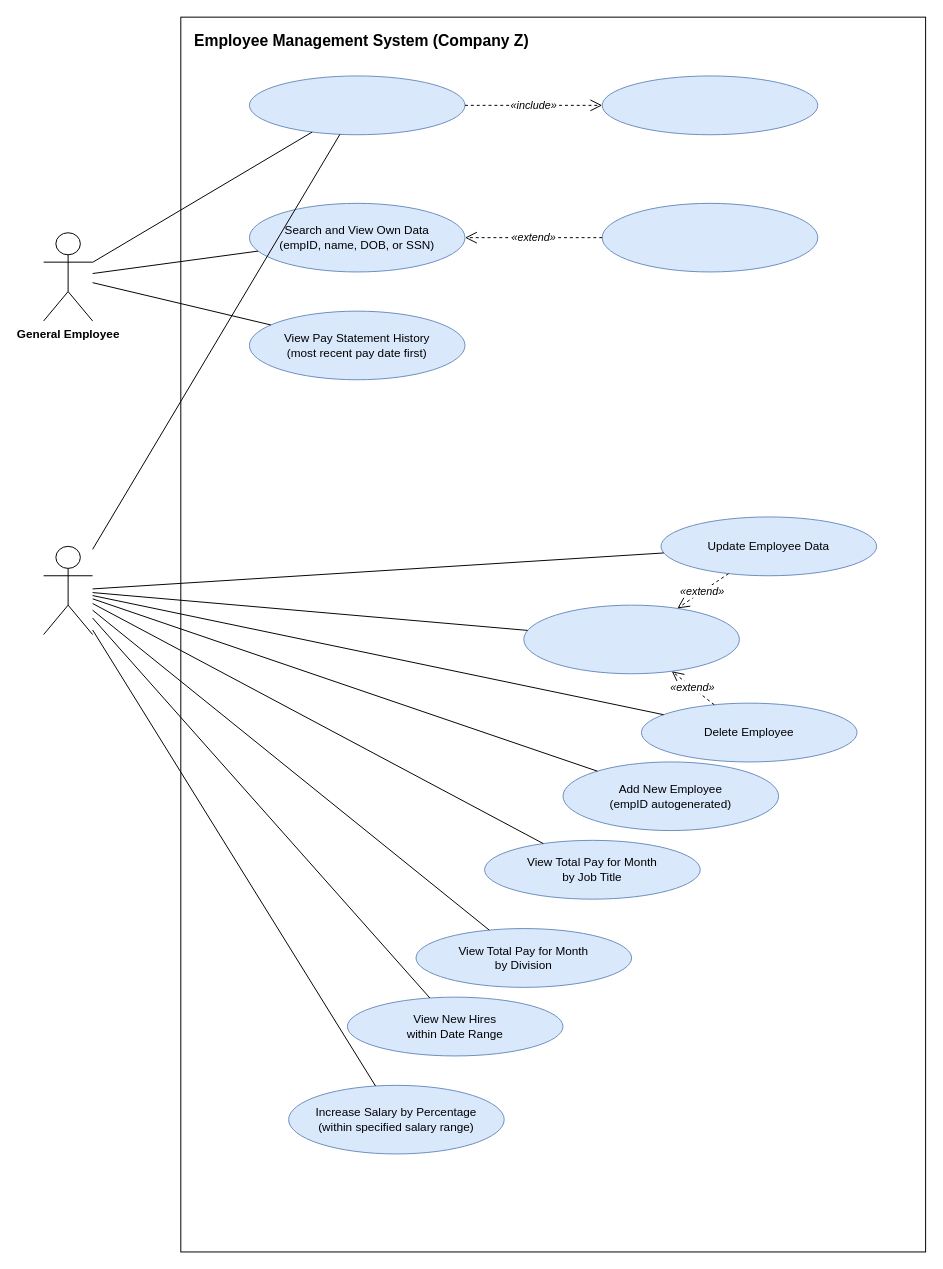
The diagram is 943 pixels wide and 1269 high, and some of its shapes have lost their labels. Each missing label, with the centre of its shape:
Display Employee Not Found Error [no matching employee]: the point at 709,237
HR Admin: the point at 68,590
Log In: the point at 356,105
Search Employee for Editing (name, DOB, SSN, or empID): the point at 631,639
Verify Credentials and Role: the point at 709,105
